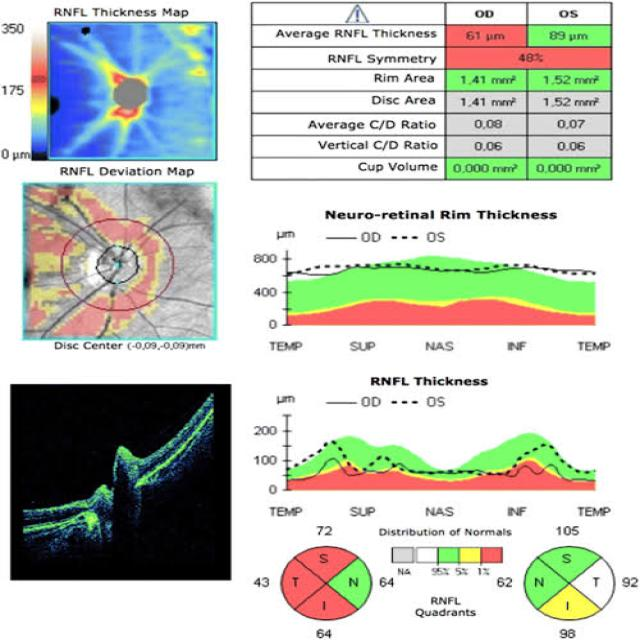rim area: (302, 68, 611, 92)
rim area-od: (448, 66, 526, 93)
rim area-os: (529, 66, 610, 93)
vertical cd ratio: (309, 136, 615, 159)
vertical cd ratio-od: (450, 136, 526, 156)
vertical cd ratio-os: (533, 134, 606, 154)
